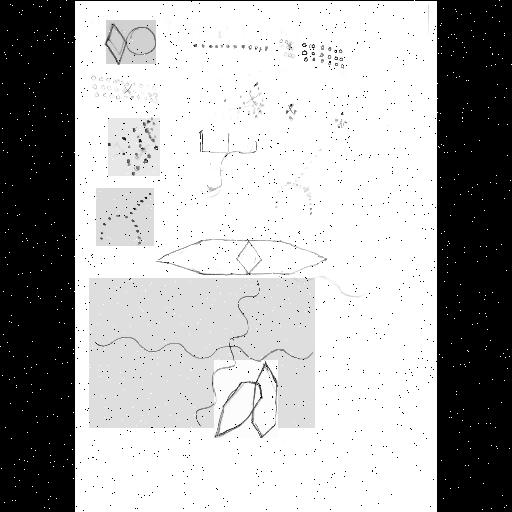shape-1: (106, 20, 156, 64)
shape-2: (192, 38, 270, 54)
shape-3: (300, 40, 346, 70)
shape-4: (108, 118, 160, 176)
shape-5: (200, 128, 256, 190)
shape-6: (96, 188, 154, 246)
shape-7: (89, 278, 315, 428)
shape-8: (214, 360, 278, 438)
shape-9: (157, 237, 325, 273)
